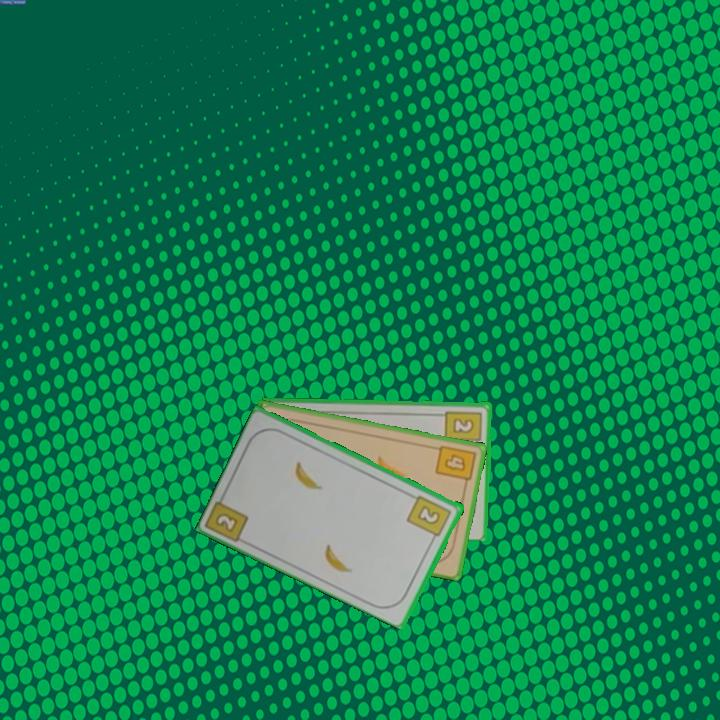2b: (404, 492, 455, 544), (442, 407, 485, 450), (212, 509, 241, 535)
4b: (432, 442, 478, 490)
